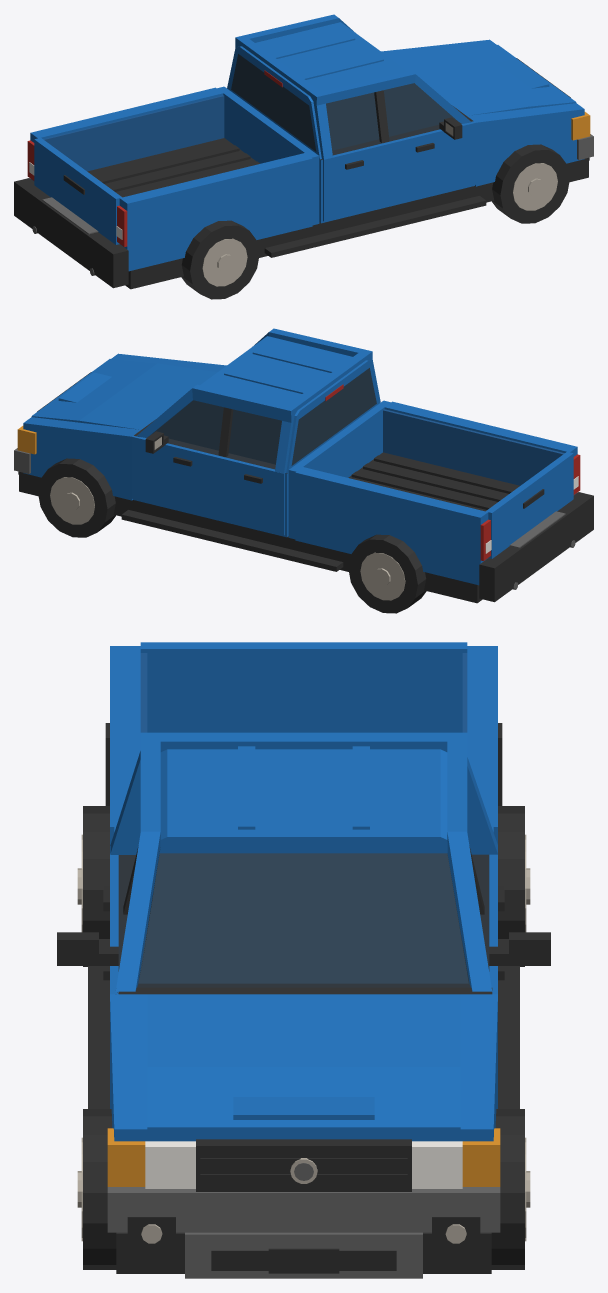
The model's file is q2 pickup_truck.fbx.
3 renders of one model, top to bottom at view 1: azimuth 30°, elevation 25°; view 2: azimuth 150°, elevation 25°; view 3: azimuth 270°, elevation 25°, orthographic. The views are drawn at different scales.
Visible parts, largest first — view 1: Axle_Front, a__, aa__, A_Pillar_R, Wheel_FR_Tire, Wheel_RR_Hub, aaa__, A_Pillar_L, aaaa___; view 2: Axle_Front, aaaa___, aaa__, A_Pillar_L, Wheel_FL_Hub, Wheel_RL_Rim_Cavity, A_Pillar_R, aa__, a__; view 3: Axle_Front, A_Pillar_L, A_Pillar_R, a__, aaaa___, aaa__, Wheel_FL_Hub, Wheel_FR_Tire, aa__, Wheel_RL_Rim_Cavity, Wheel_RR_Hub.
Part boxes in pixels (bbox=[...]): Axle_Front: bbox=[14, 22, 593, 289]; a__: bbox=[322, 103, 584, 221]; aa__: bbox=[119, 153, 312, 271]; A_Pillar_R: bbox=[239, 39, 471, 159]; Wheel_FR_Tire: bbox=[492, 144, 569, 223]; Wheel_RR_Hub: bbox=[181, 220, 259, 299]; aaa__: bbox=[30, 87, 223, 180]; A_Pillar_L: bbox=[227, 14, 355, 88]; aaaa___: bbox=[381, 39, 496, 58]; Axle_Front: bbox=[14, 336, 593, 603]; aaaa___: bbox=[23, 417, 285, 535]; aaa__: bbox=[295, 467, 488, 585]; A_Pillar_L: bbox=[136, 384, 295, 473]; Wheel_FL_Hub: bbox=[38, 458, 115, 537]; Wheel_RL_Rim_Cavity: bbox=[348, 534, 426, 613]; A_Pillar_R: bbox=[252, 328, 380, 412]; aa__: bbox=[384, 401, 577, 494]; a__: bbox=[111, 353, 226, 372]; Axle_Front: bbox=[57, 642, 550, 1278]; A_Pillar_L: bbox=[138, 732, 497, 991]; A_Pillar_R: bbox=[110, 732, 447, 991]; a__: bbox=[110, 846, 149, 1141]; aaaa___: bbox=[458, 854, 497, 1141]; aaa__: bbox=[467, 646, 497, 844]; Wheel_FL_Hub: bbox=[491, 1109, 530, 1269]; Wheel_FR_Tire: bbox=[77, 1109, 116, 1269]; aa__: bbox=[110, 646, 140, 845]; Wheel_RL_Rim_Cavity: bbox=[498, 806, 530, 966]; Wheel_RR_Hub: bbox=[77, 806, 109, 966].
Bounding box in the file's own units: 508 × 165 × 224.
